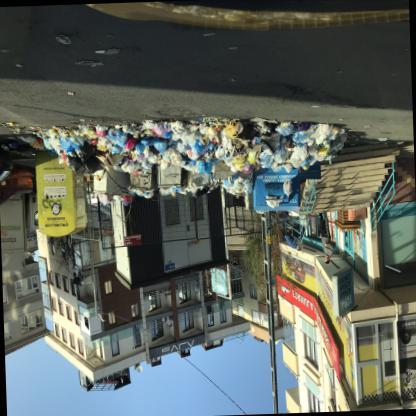Garbage: (262, 116, 339, 163), (126, 112, 190, 161), (64, 118, 116, 177), (221, 128, 269, 166), (110, 117, 152, 150), (185, 130, 215, 172), (186, 114, 213, 152), (65, 125, 83, 162), (309, 125, 342, 145), (288, 142, 308, 166), (39, 128, 61, 146), (136, 155, 154, 176), (220, 118, 237, 140), (132, 190, 152, 201), (162, 188, 180, 200), (134, 192, 156, 200), (282, 180, 292, 194), (287, 134, 310, 140), (186, 186, 201, 194), (268, 198, 280, 206), (118, 199, 128, 206), (100, 198, 110, 204)
